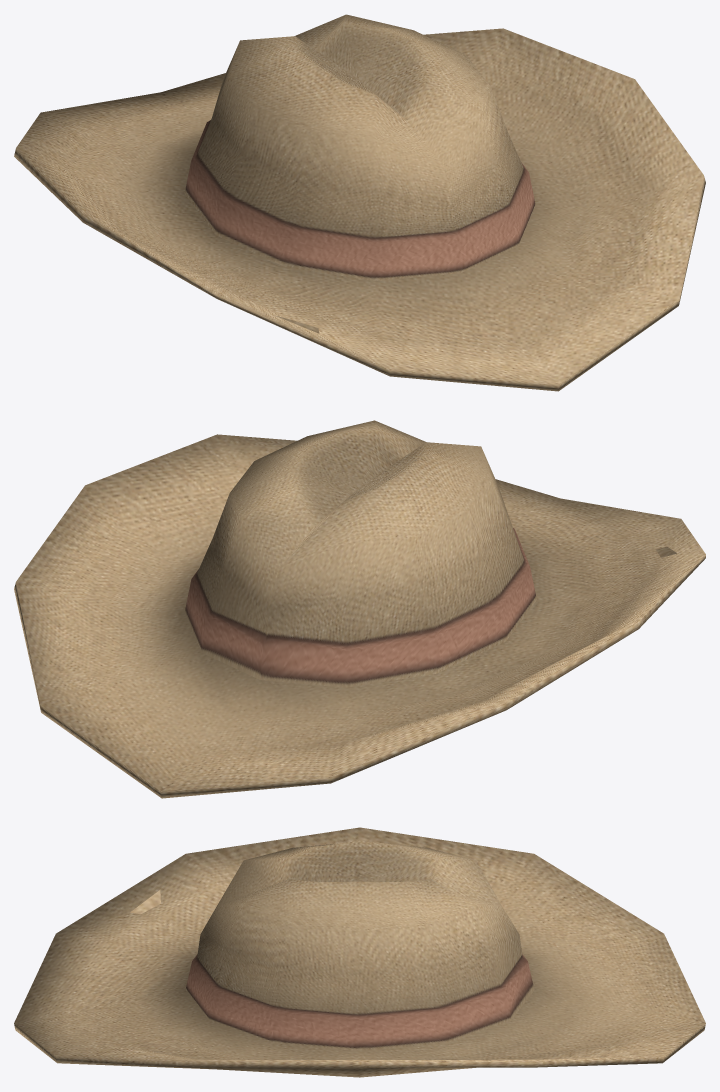
The model's file is CowboyHat.FBX.
The picture shows the model from 3 angles, top to bottom: view 1: azimuth 30°, elevation 25°; view 2: azimuth 150°, elevation 25°; view 3: azimuth 270°, elevation 25°; orthographic projection. The views are drawn at different scales.
Visible parts, largest first — view 1: Tube001; view 2: Tube001; view 3: Tube001.
Boxes of the visible parts, x1,y1,x2,y2 form: Tube001: (14,14,705,391); Tube001: (14,420,705,798); Tube001: (14,827,705,1077).
Bounding box in the file's own units: 132 × 44.23 × 164.
